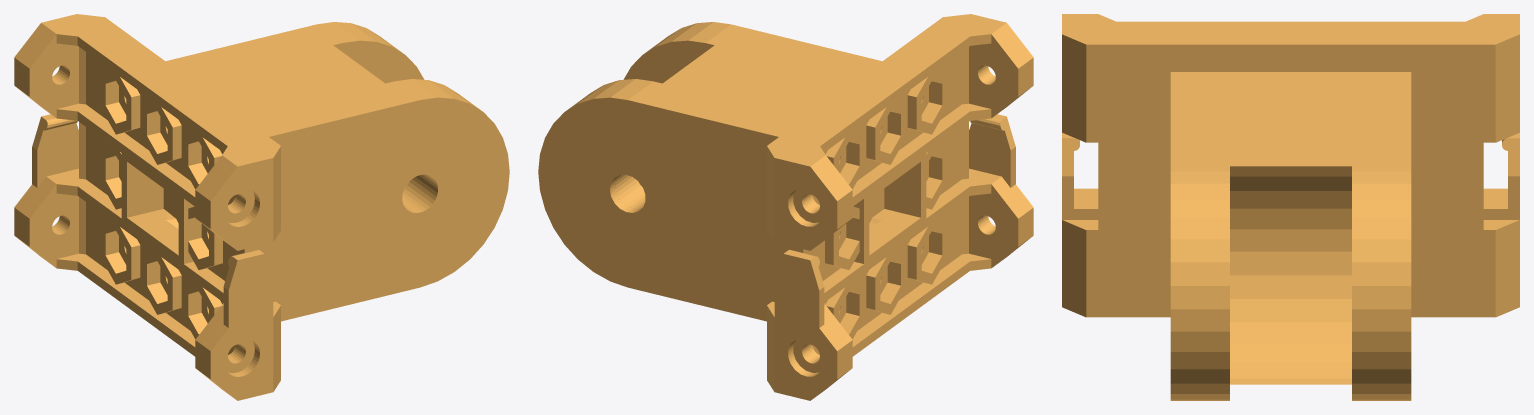
Rendered from gripper_part1.dae.
The picture shows the model from 3 angles, left to right: view 1: azimuth 30°, elevation 25°; view 2: azimuth 150°, elevation 25°; view 3: azimuth 270°, elevation 25°; orthographic projection. The views are drawn at different scales.
Parts seen in each view (by area): view 1: mesh_1_griper_par1; view 2: mesh_1_griper_par1; view 3: mesh_1_griper_par1.
Boxes of the visible parts, x1,y1,x2,y2 form: mesh_1_griper_par1: (14,14,509,400); mesh_1_griper_par1: (538,14,1033,400); mesh_1_griper_par1: (1062,14,1519,400).
Size of the model in its own units: 0.0386 by 0.038 by 0.025.
